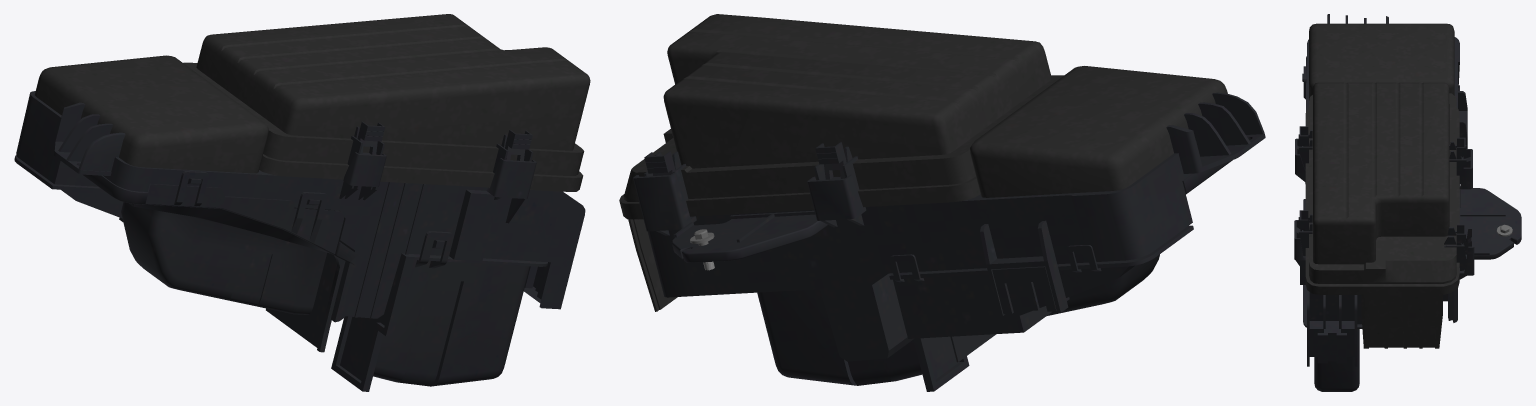
File: E5_保险丝盒.FBX
3 views of the same model, side by side, from view 1: azimuth 30°, elevation 25°; view 2: azimuth 150°, elevation 25°; view 3: azimuth 270°, elevation 25° (orthographic). The views are drawn at different scales.
Visible parts, largest first — view 1: ZBXSH002, ZBXSHGZ; view 2: ZBXSH002, ZBXSHGZ; view 3: ZBXSHGZ, ZBXSH002.
Boxes of the visible parts, x1,y1,x2,y2 form: ZBXSH002: (14,55,585,391); ZBXSHGZ: (183,14,590,191); ZBXSH002: (633,66,1265,391); ZBXSHGZ: (619,14,1063,311); ZBXSHGZ: (1298,82,1466,348); ZBXSH002: (1294,14,1521,391).
Bounding box in the file's own units: 25.93 × 16.4 × 13.98.
